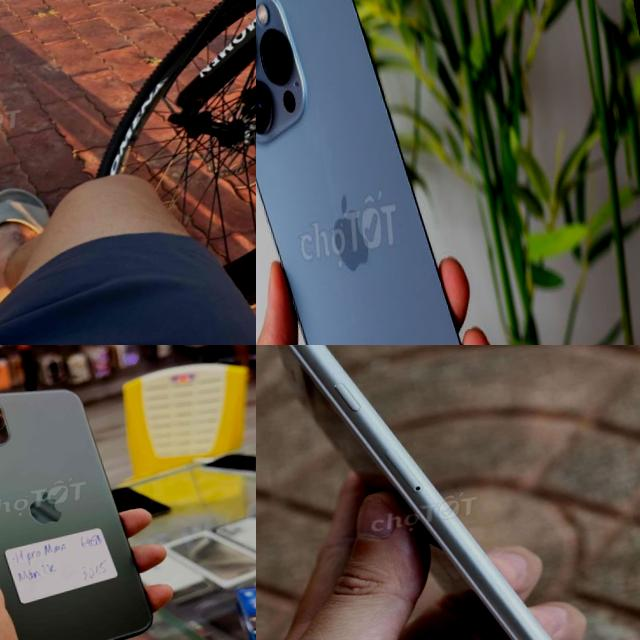gen_11: (0, 390, 150, 640)
gen_12_13: (256, 0, 502, 345)
gen_7_8: (256, 345, 629, 640)
